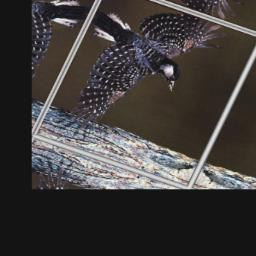Woodpecker: (45, 0, 228, 162)
